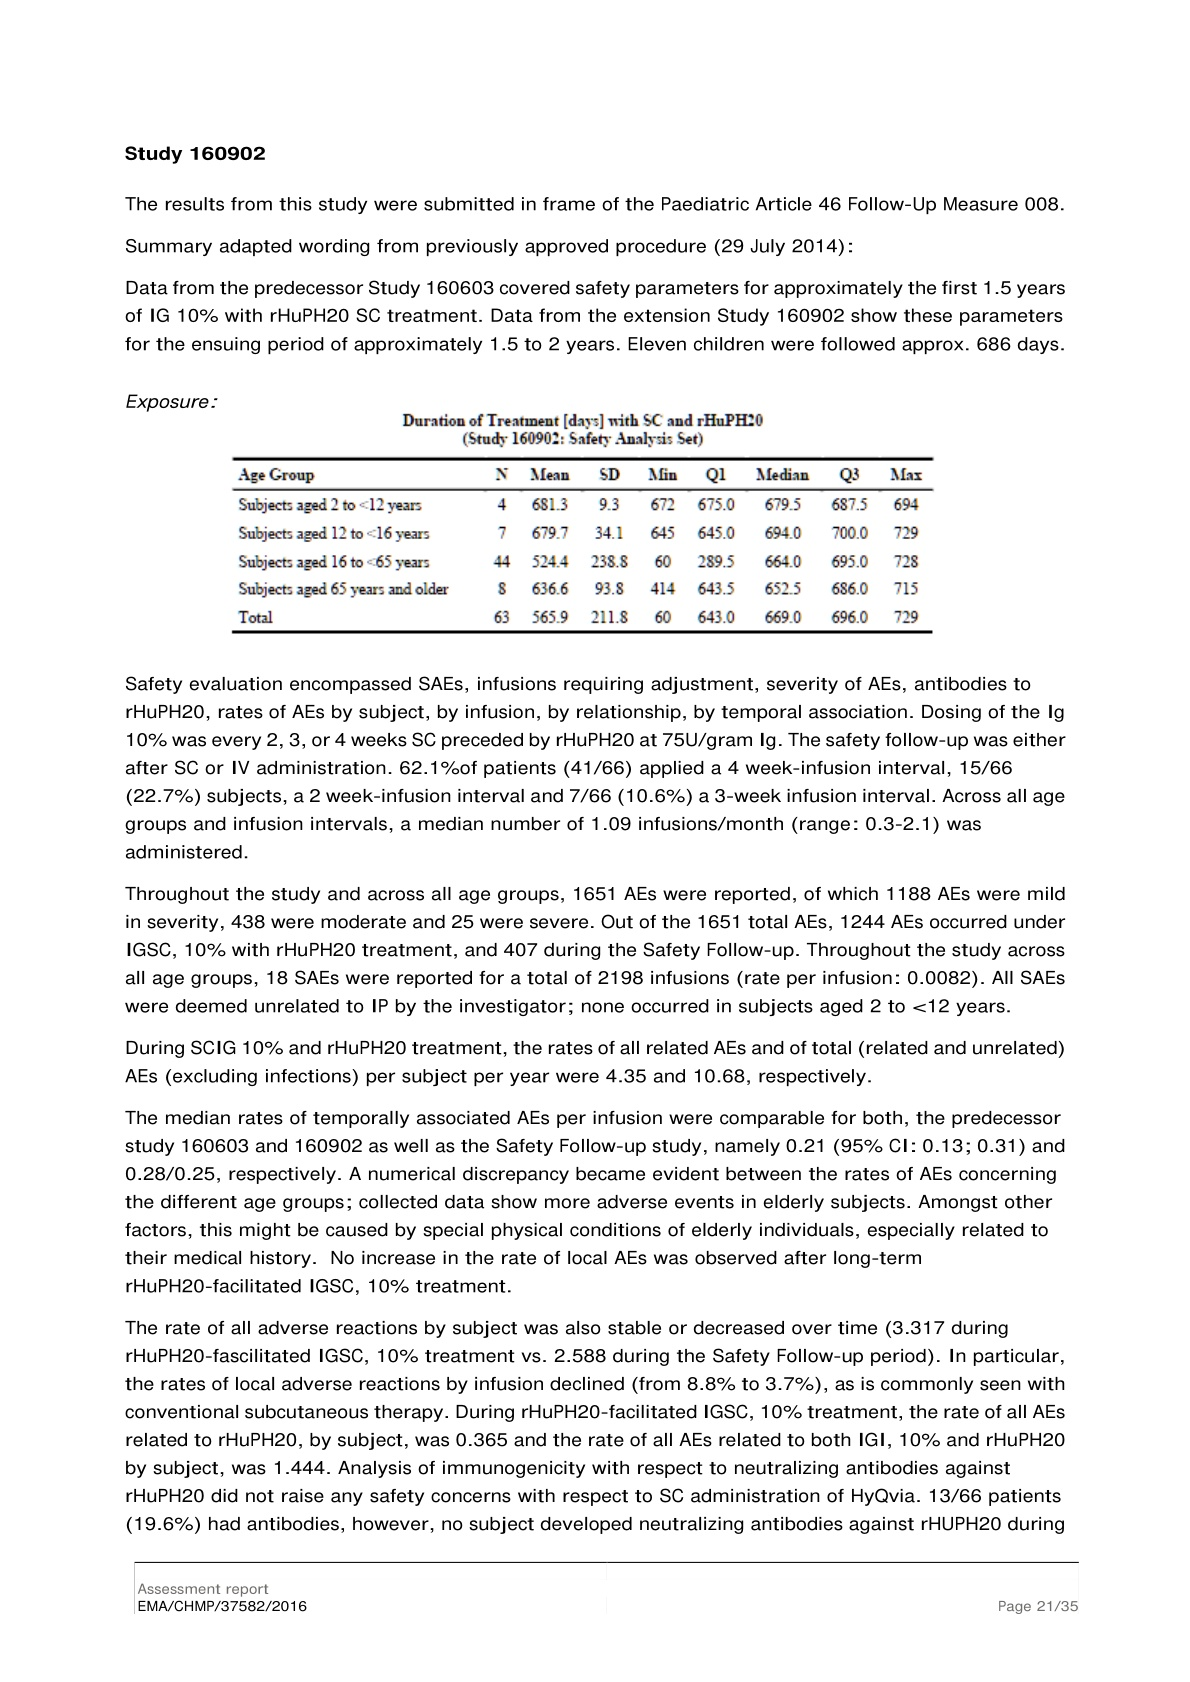partial_lined: (231, 455, 934, 634)
